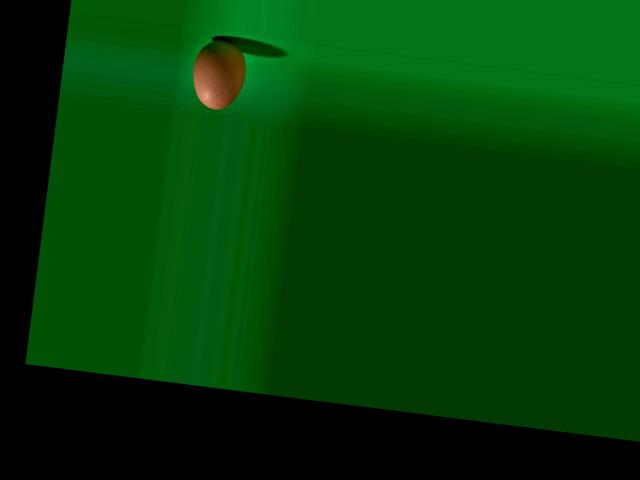egg: (189, 36, 250, 111)
